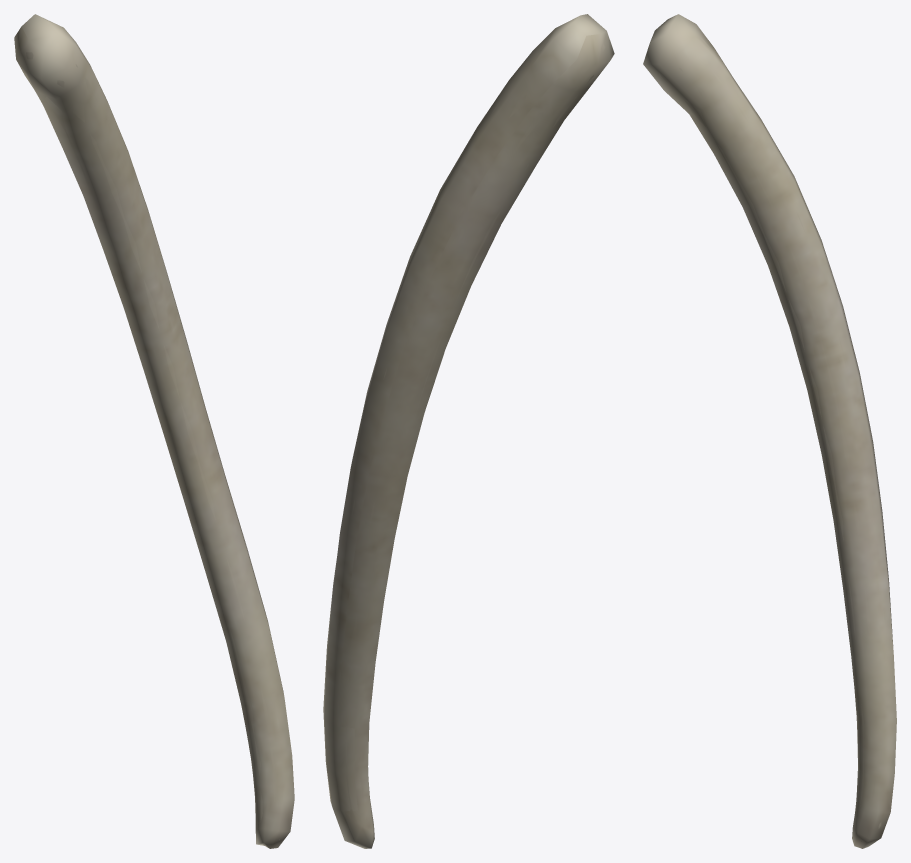
File: Rib L03.fbx
The picture shows the model from 3 angles, left to right: view 1: azimuth 30°, elevation 25°; view 2: azimuth 150°, elevation 25°; view 3: azimuth 330°, elevation 25°; orthographic projection. The views are drawn at different scales.
Parts seen in each view (by area): view 1: Rib L03 low, Rib L03; view 2: Rib L03 low, Rib L03; view 3: Rib L03 low, Rib L03.
Boxes of the visible parts, x1,y1,x2,y2 form: Rib L03 low: (14,14,294,848); Rib L03: (25,52,288,845); Rib L03 low: (323,14,614,848); Rib L03: (328,41,605,825); Rib L03 low: (643,14,896,848); Rib L03: (659,37,891,841).
Bounding box in the file's own units: 1.78 × 5.47 × 0.6998.
1 material, 1 textured.
